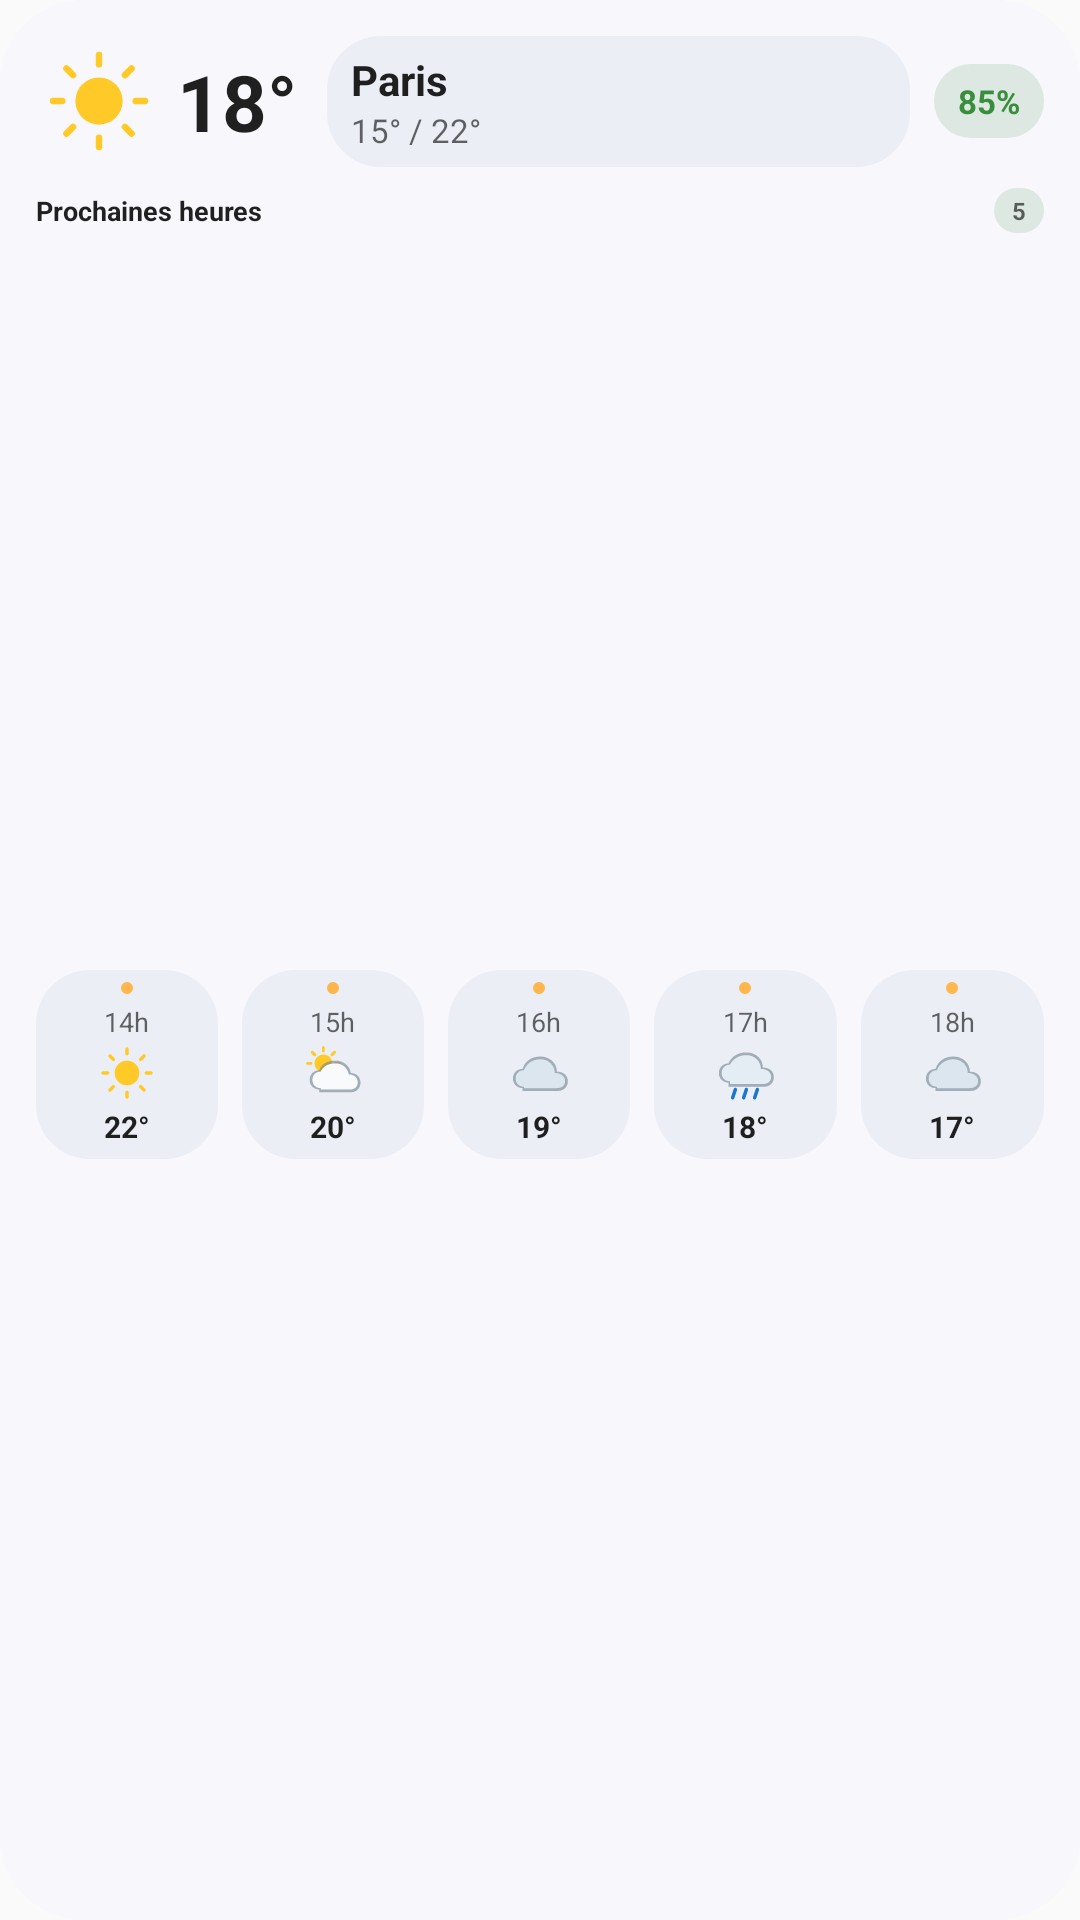

Locate icon controls on the screen. Image size 1080x1920, boxes as (x1=x1, y1=y1, x2=x2, y2=y2).
widget weather cloud: (x1=513, y1=1056, x2=568, y2=1091), (x1=926, y1=1056, x2=981, y2=1091)
widget weather partly: (x1=306, y1=1046, x2=361, y2=1092)
widget weather rain: (x1=719, y1=1052, x2=774, y2=1100)
widget weather sun: (x1=49, y1=51, x2=149, y2=151), (x1=101, y1=1047, x2=153, y2=1099)
